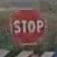stop: (8, 7, 47, 46)
